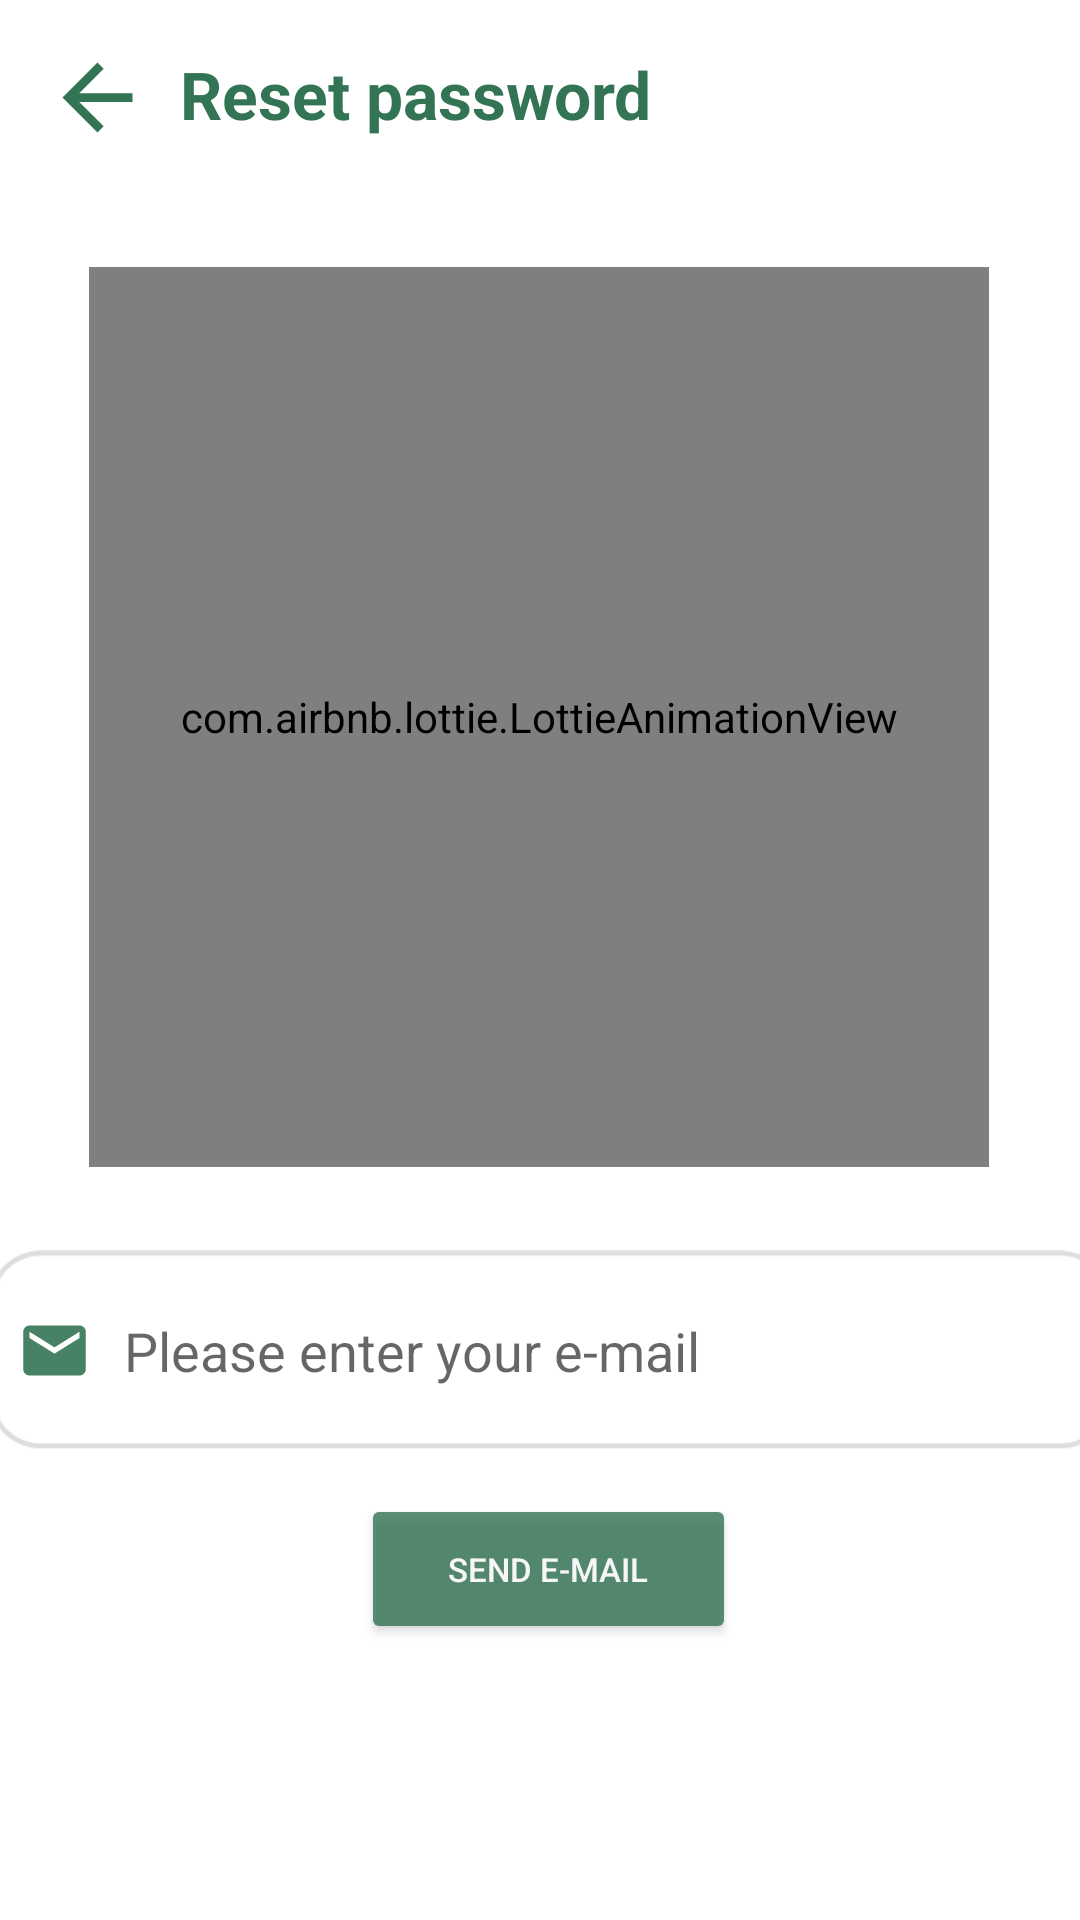

Icon bounding boxes for this 1080w x 1920h phone screenshot, format detection(x1, y1, x2, y2):
back: detection(62, 62, 133, 133)
